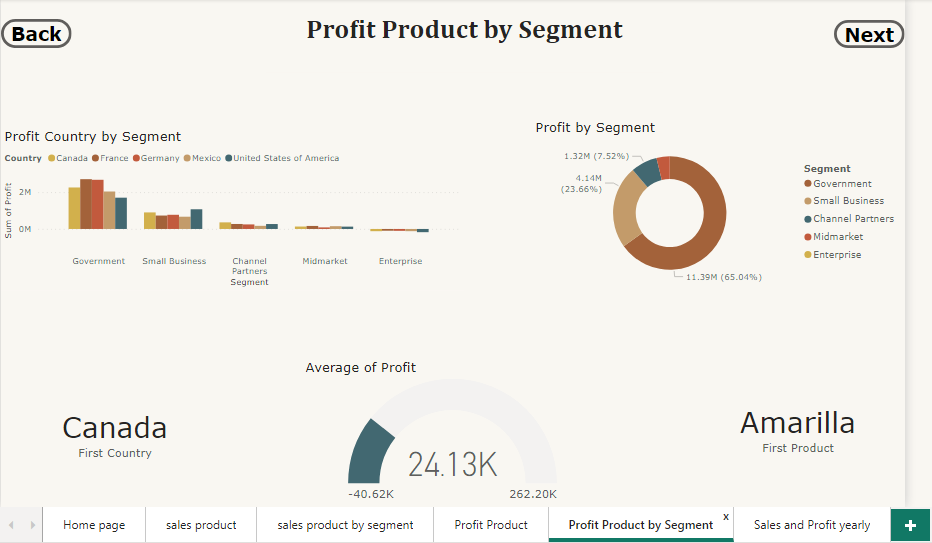

Layout of this report page (visuals, bound fields, positions):
{"tool":"powerbi","page":{"name":"Page 5","canvas":[1280,720],"ordinal":4},"visuals":[{"type":"textbox","box":[376,15.1,562.6,89.2],"z":0},{"type":"gauge","fields":{"Y":["Avg(financials.Profit)"],"MinValue":["Min(financials.Profit)"],"MaxValue":["Max(financials.Profit)"]},"box":[489.9,123.5,300.5,223.7],"z":1000},{"type":"card","fields":{"Values":["Min(financials.Product)"]},"box":[979.8,123.5,300.5,223.7],"z":2000},{"type":"card","fields":{"Values":["Min(financials.Country)"]},"box":[12.3,123.5,300.5,209.9],"z":3000},{"type":"clusteredColumnChart","title":" Profit Country by Segment","fields":{"Series":["financials.Country"],"Y":["Sum(financials.Profit)"],"Category":["financials.Segment"]},"box":[0,359.5,657.3,230.5],"z":4000},{"type":"donutChart","title":"Profit by Segment","fields":{"Y":["Sum(financials.Profit)"],"Category":["financials.Segment"]},"box":[752,359.5,528.3,242.9],"z":5000},{"type":"actionButton","box":[1180.1,30.2,100.2,39.8],"z":6000},{"type":"actionButton","box":[0,28.8,100.2,41.2],"z":7000}]}

Visuals, with their boxes on the page's 1280x720 design canvas (x1, y1, x2, y2). These are canvas units, not pixel positions in the 932x543 screenshot, which may show the page scaled, cropped or inside an application window:
textbox: <bbox>376, 15, 939, 104</bbox>
gauge - Avg(financials.Profit) x Min(financials.Profit): <bbox>490, 124, 790, 347</bbox>
card - Min(financials.Product): <bbox>980, 124, 1280, 347</bbox>
card - Min(financials.Country): <bbox>12, 124, 313, 333</bbox>
" Profit Country by Segment" clusteredColumnChart: <bbox>0, 360, 657, 590</bbox>
"Profit by Segment" donutChart: <bbox>752, 360, 1280, 602</bbox>
actionButton: <bbox>1180, 30, 1280, 70</bbox>
actionButton: <bbox>0, 29, 100, 70</bbox>
